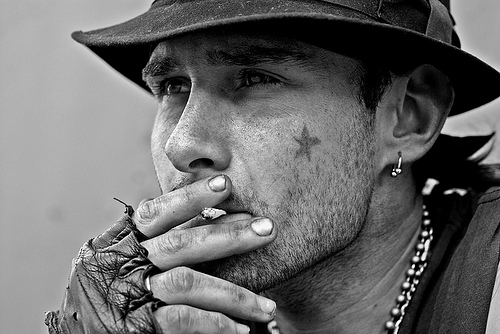cigarette: (201, 209, 227, 218)
